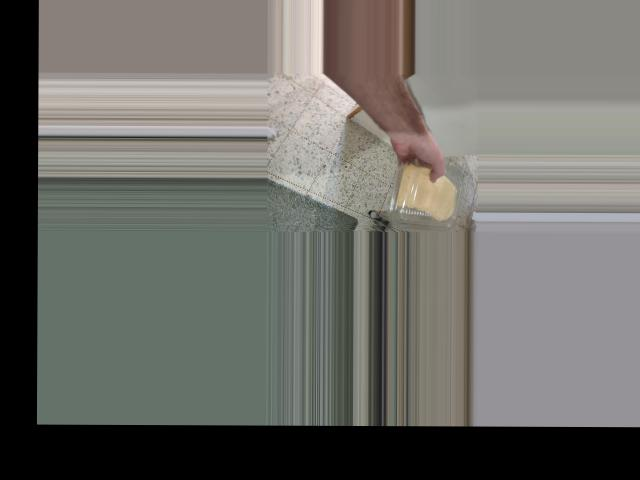cheese: (389, 161, 459, 225)
